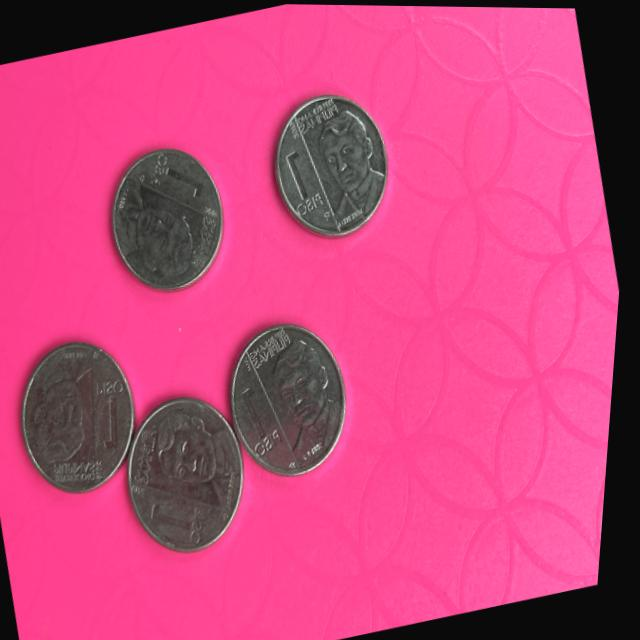1_New_Front: (232, 378, 301, 467), (140, 144, 215, 213), (271, 140, 334, 222), (83, 365, 143, 450), (146, 492, 221, 556)
